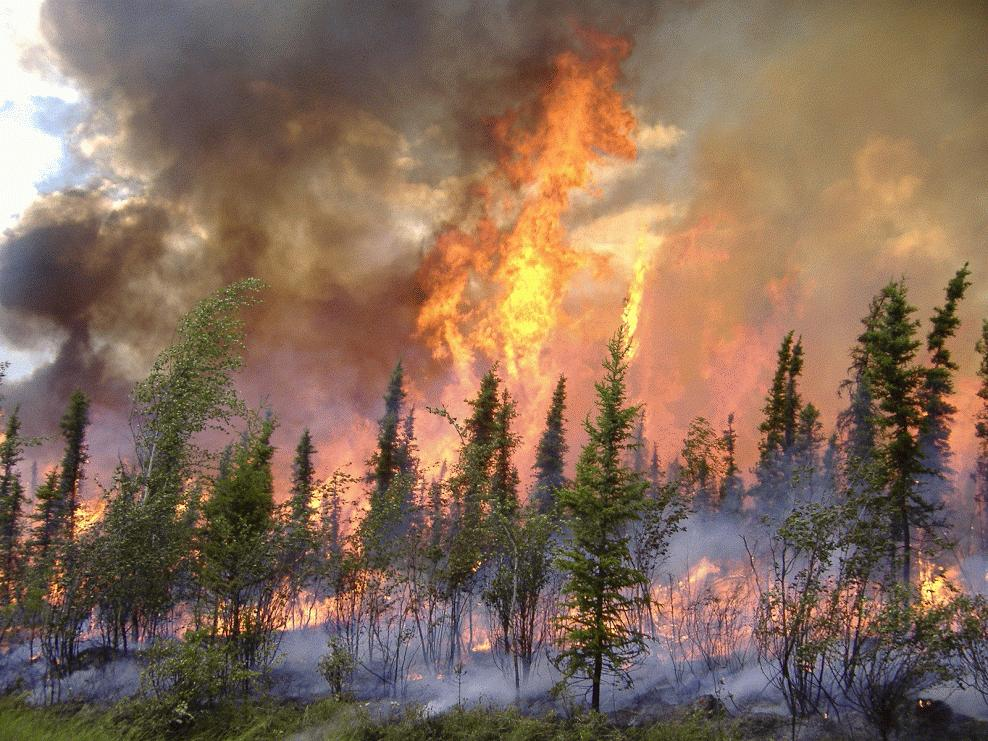fire: (402, 21, 648, 369), (217, 436, 513, 614), (648, 541, 979, 662)
